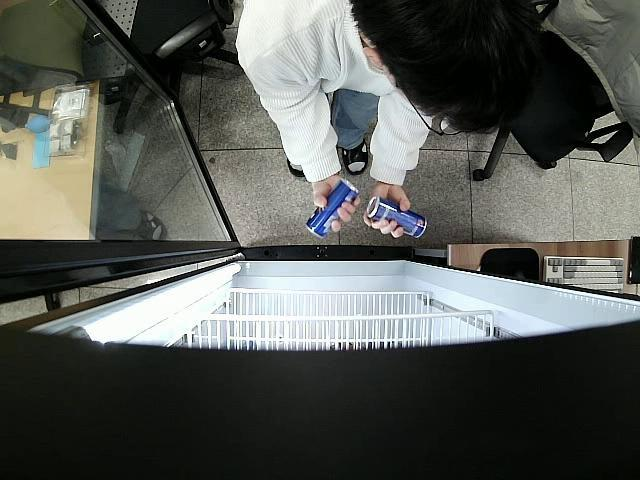16_hot6: (306, 181, 358, 240), (364, 199, 428, 240)
